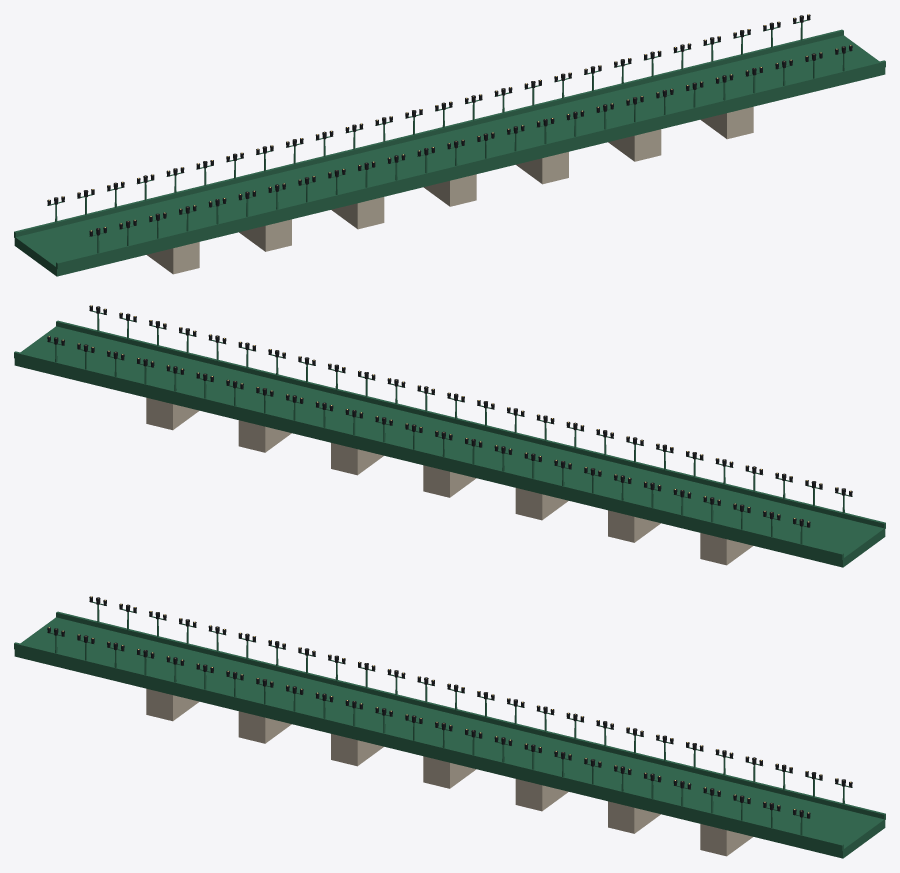
File: westminsterbr.glb
The picture shows the model from 3 angles, top to bottom: view 1: azimuth 30°, elevation 25°; view 2: azimuth 150°, elevation 25°; view 3: azimuth 330°, elevation 25°; orthographic projection.
Parts seen in each view (by area): view 1: westminsterbr; view 2: westminsterbr; view 3: westminsterbr.
Boxes of the visible parts, box(x1,y1,x2,y2) form: westminsterbr: box(14, 14, 885, 276); westminsterbr: box(14, 305, 885, 567); westminsterbr: box(14, 596, 885, 858).
Bounding box in the file's own units: 2.25 × 0.1851 × 0.2086.
